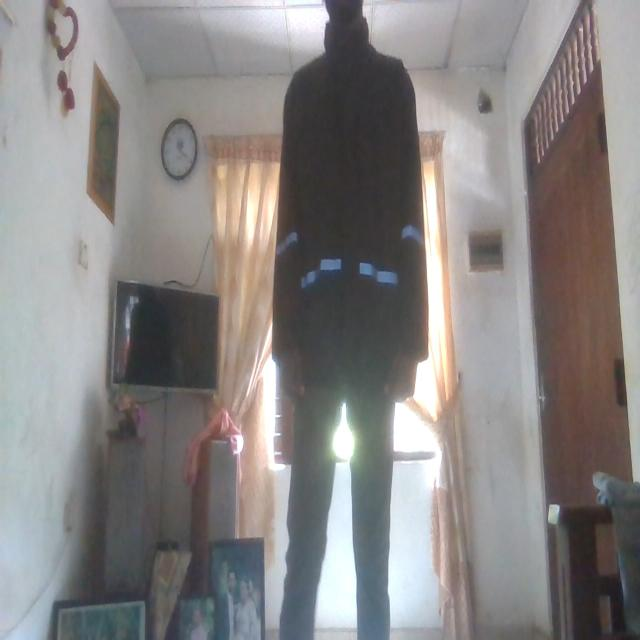Jacket_Wearer: (279, 35, 431, 402)
Person: (271, 2, 429, 640)
